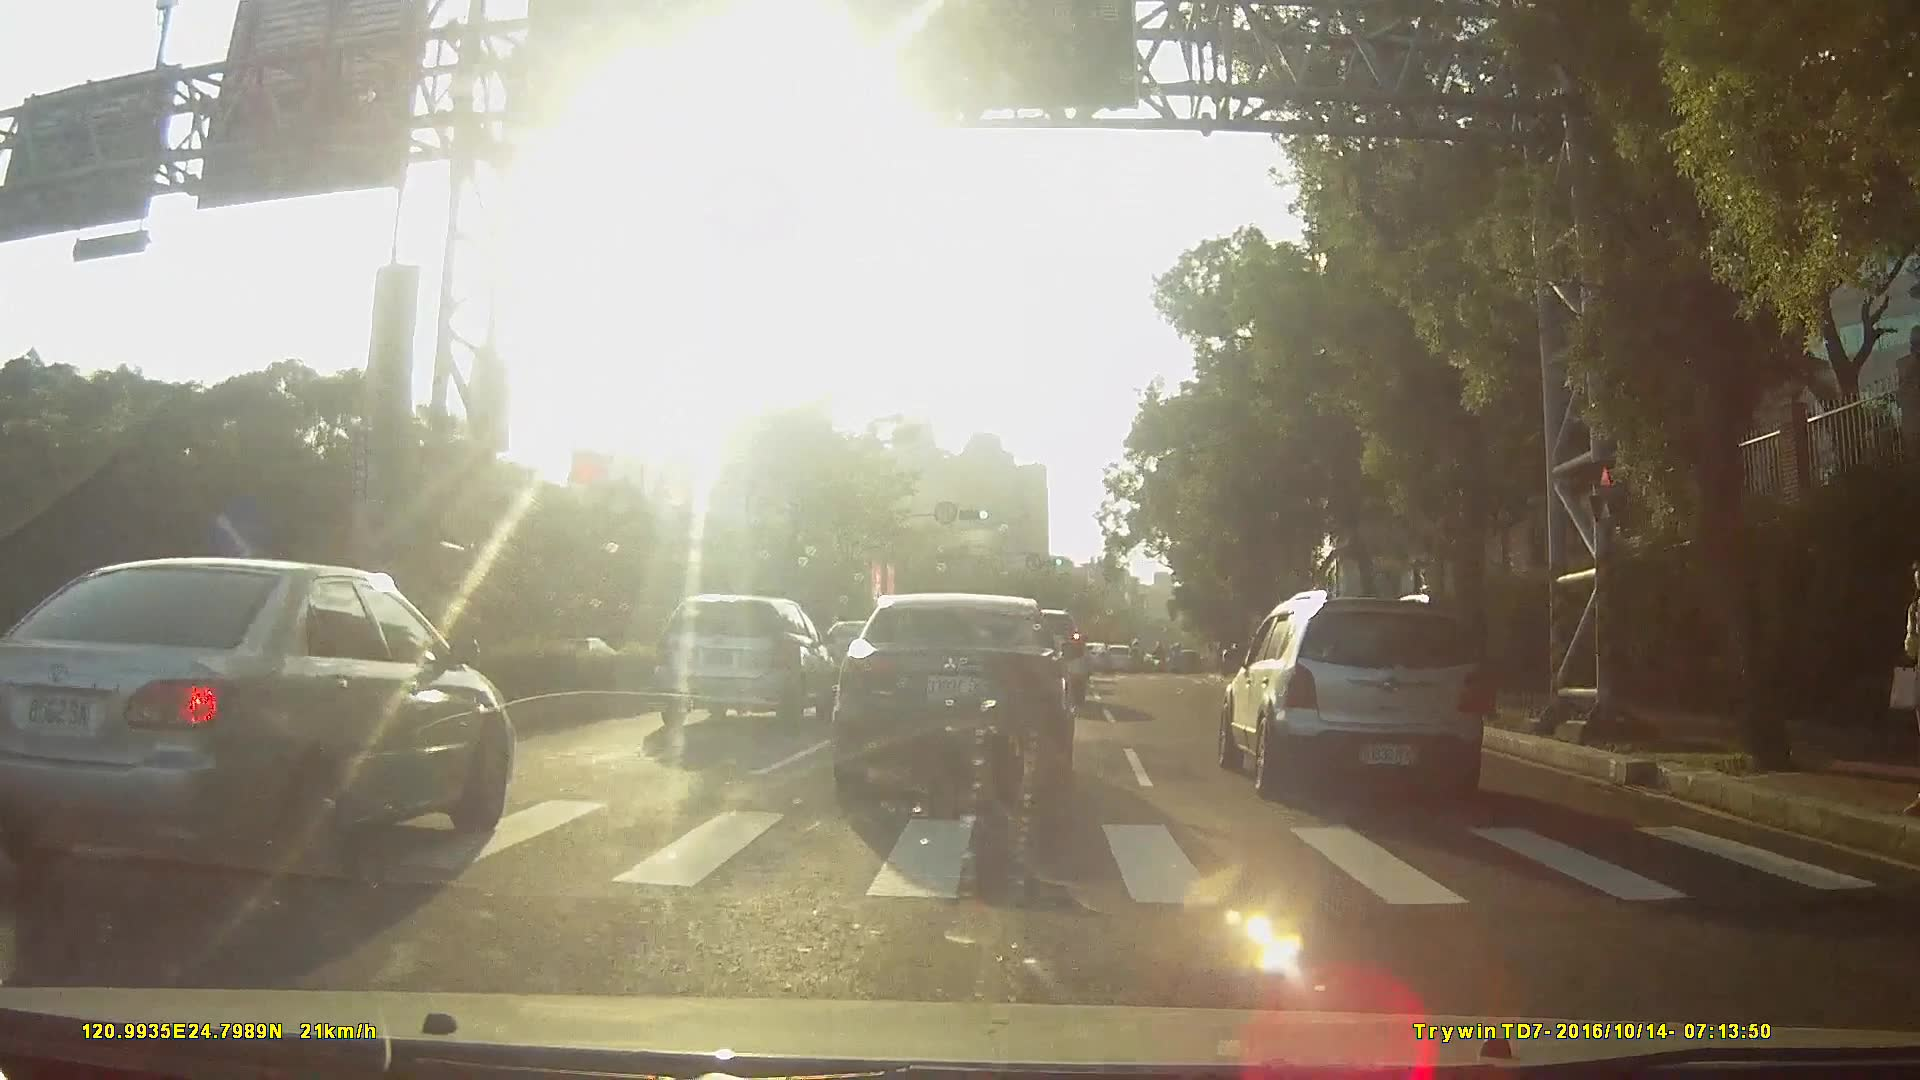pedestrian: (1879, 557, 1920, 808)
vehicle: (1, 549, 536, 896), (1205, 589, 1498, 805), (838, 590, 1089, 798), (643, 597, 834, 731), (1074, 643, 1109, 679), (1096, 648, 1132, 679)
